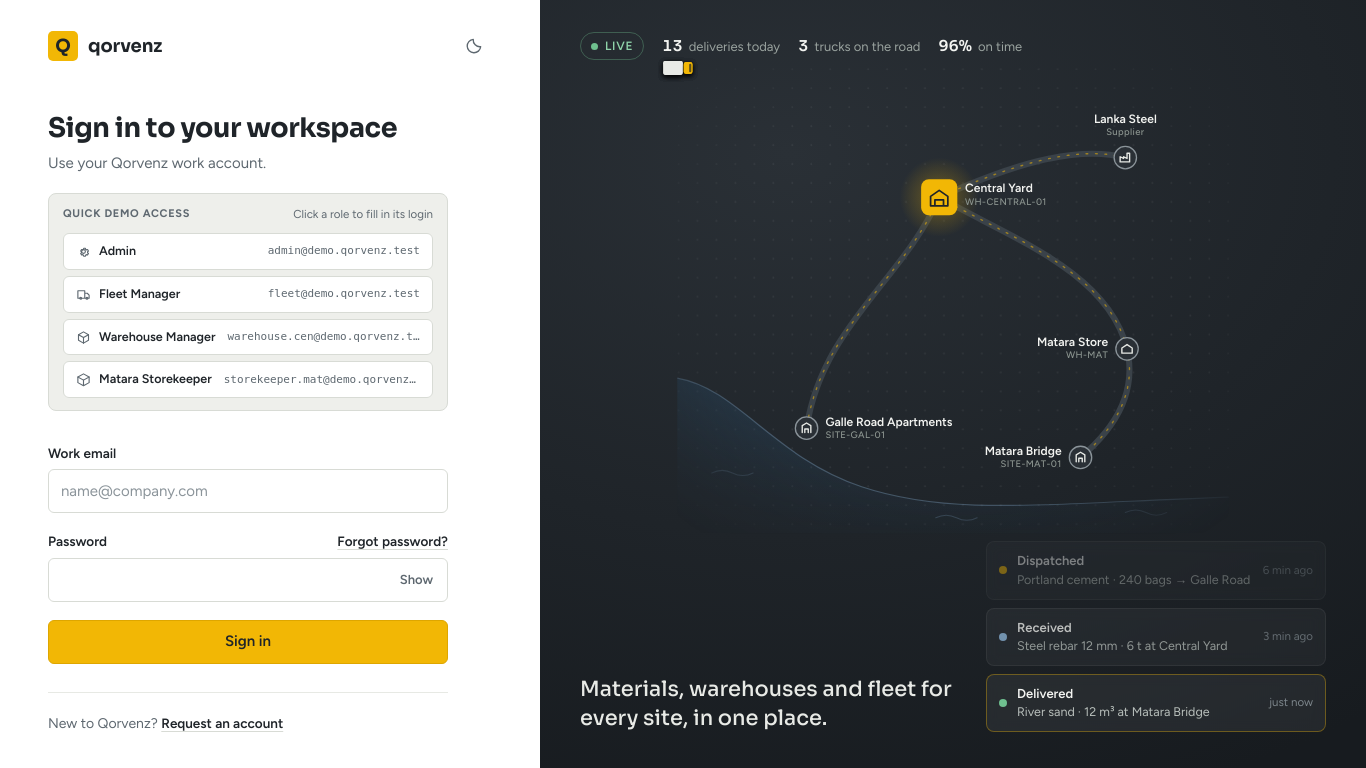
Test: request an account › offers warehouse manager, fleet manager and driver, never Admin
Check: the heading "Sign in to your workspace" is shown, box x1=48 y1=112 x2=448 y2=144
Click the button "Request an account" at (222, 723), box x1=161 y1=713 x2=283 y2=733
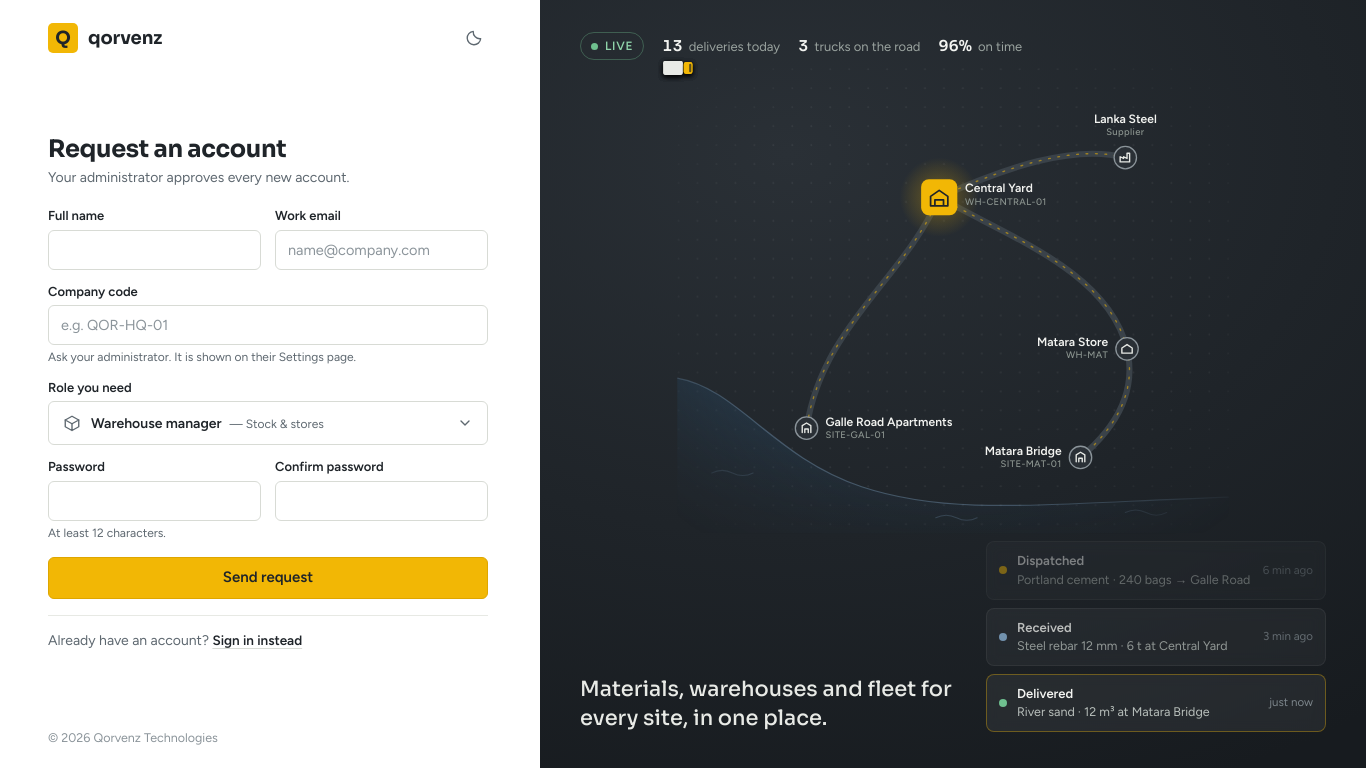
Check: the heading "Request an account" is shown, box x1=48 y1=134 x2=286 y2=164
